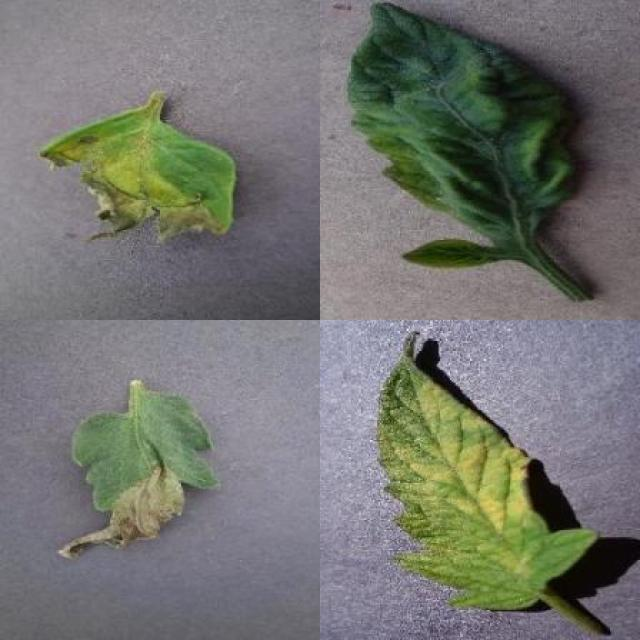Late Blight: (39, 102, 241, 248), (58, 391, 221, 559)
Leaf Mold: (376, 328, 598, 612)
Yellow Leaf Curl Virus: (346, 0, 581, 237), (398, 235, 499, 271)
